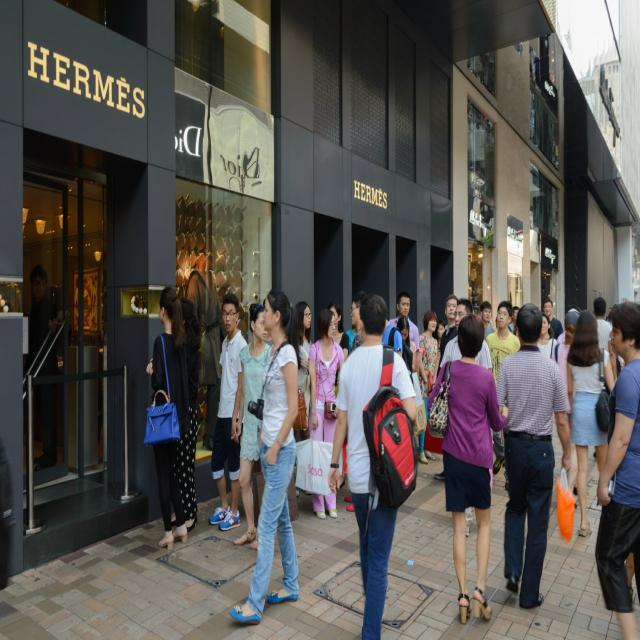body: (328, 293, 420, 639), (490, 302, 576, 610), (426, 312, 510, 626), (226, 284, 302, 626), (594, 296, 640, 639), (140, 284, 193, 552), (438, 296, 494, 538), (565, 309, 617, 538), (230, 300, 274, 552), (206, 293, 252, 533), (254, 290, 296, 529), (304, 305, 346, 521), (181, 253, 223, 449), (23, 262, 61, 473), (171, 297, 201, 534), (485, 298, 521, 492), (550, 308, 580, 497), (327, 298, 351, 491), (414, 308, 442, 464), (293, 300, 313, 495), (431, 292, 460, 393), (388, 291, 420, 378), (588, 296, 618, 384), (381, 306, 405, 362), (344, 291, 364, 356), (396, 315, 418, 373), (536, 311, 558, 360), (540, 298, 564, 342), (479, 302, 497, 341), (624, 552, 638, 599), (343, 321, 360, 356), (432, 318, 447, 350), (506, 305, 520, 334), (508, 317, 520, 336), (553, 329, 567, 342), (617, 353, 625, 369), (604, 307, 612, 322), (492, 314, 499, 329)
